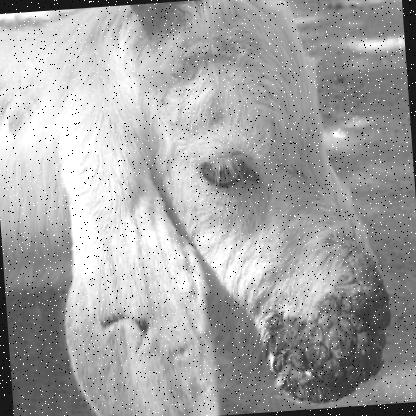ppr: (268, 303, 405, 405)
